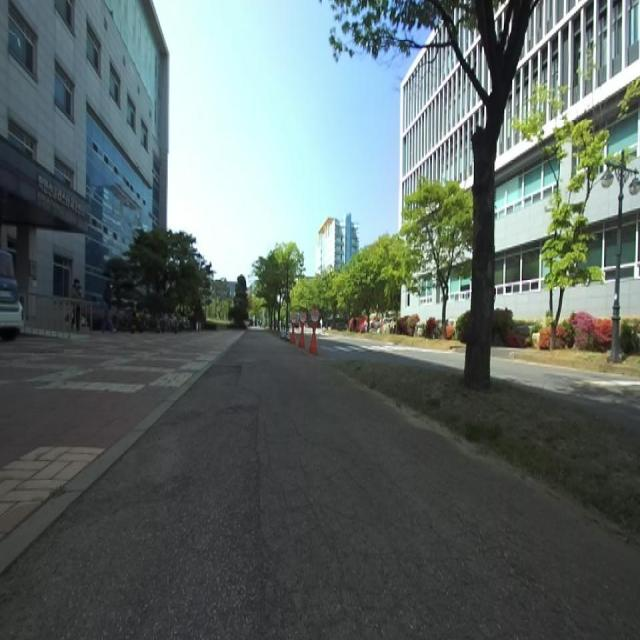sidewalk: (0, 331, 640, 639), (0, 331, 242, 574)
